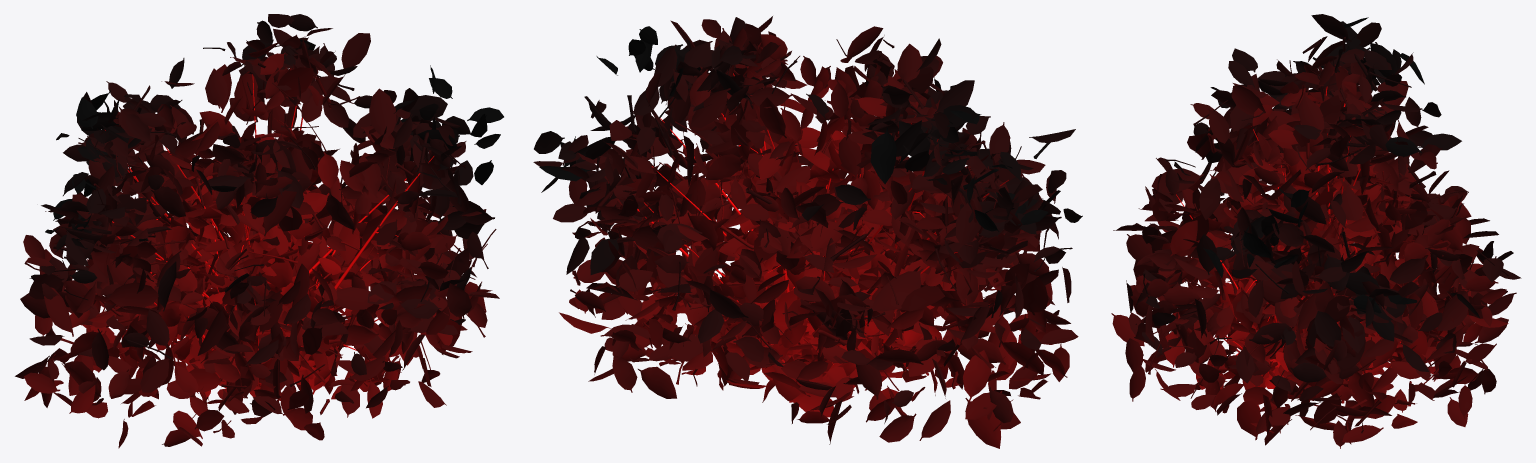
Rendered from SM_ShrubBroadleaf_00.fbx.
3 views of the same model, side by side, from view 1: azimuth 30°, elevation 25°; view 2: azimuth 150°, elevation 25°; view 3: azimuth 270°, elevation 25° (orthographic). The views are drawn at different scales.
Parts seen in each view (by area): view 1: SM_ShrubBroadleaf_00; view 2: SM_ShrubBroadleaf_00; view 3: SM_ShrubBroadleaf_00.
Part boxes in pixels (box(x1,y1,x2,y2)): SM_ShrubBroadleaf_00: box(15, 14, 503, 448); SM_ShrubBroadleaf_00: box(533, 16, 1082, 448); SM_ShrubBroadleaf_00: box(1111, 14, 1521, 448).
Size of what is drawn, in the model's own units: 252 by 202 by 170.
